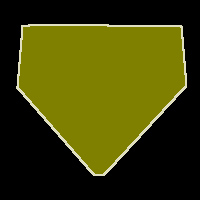tie: (17, 24, 186, 175)
